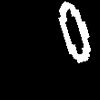chain: (59, 2, 90, 62)
